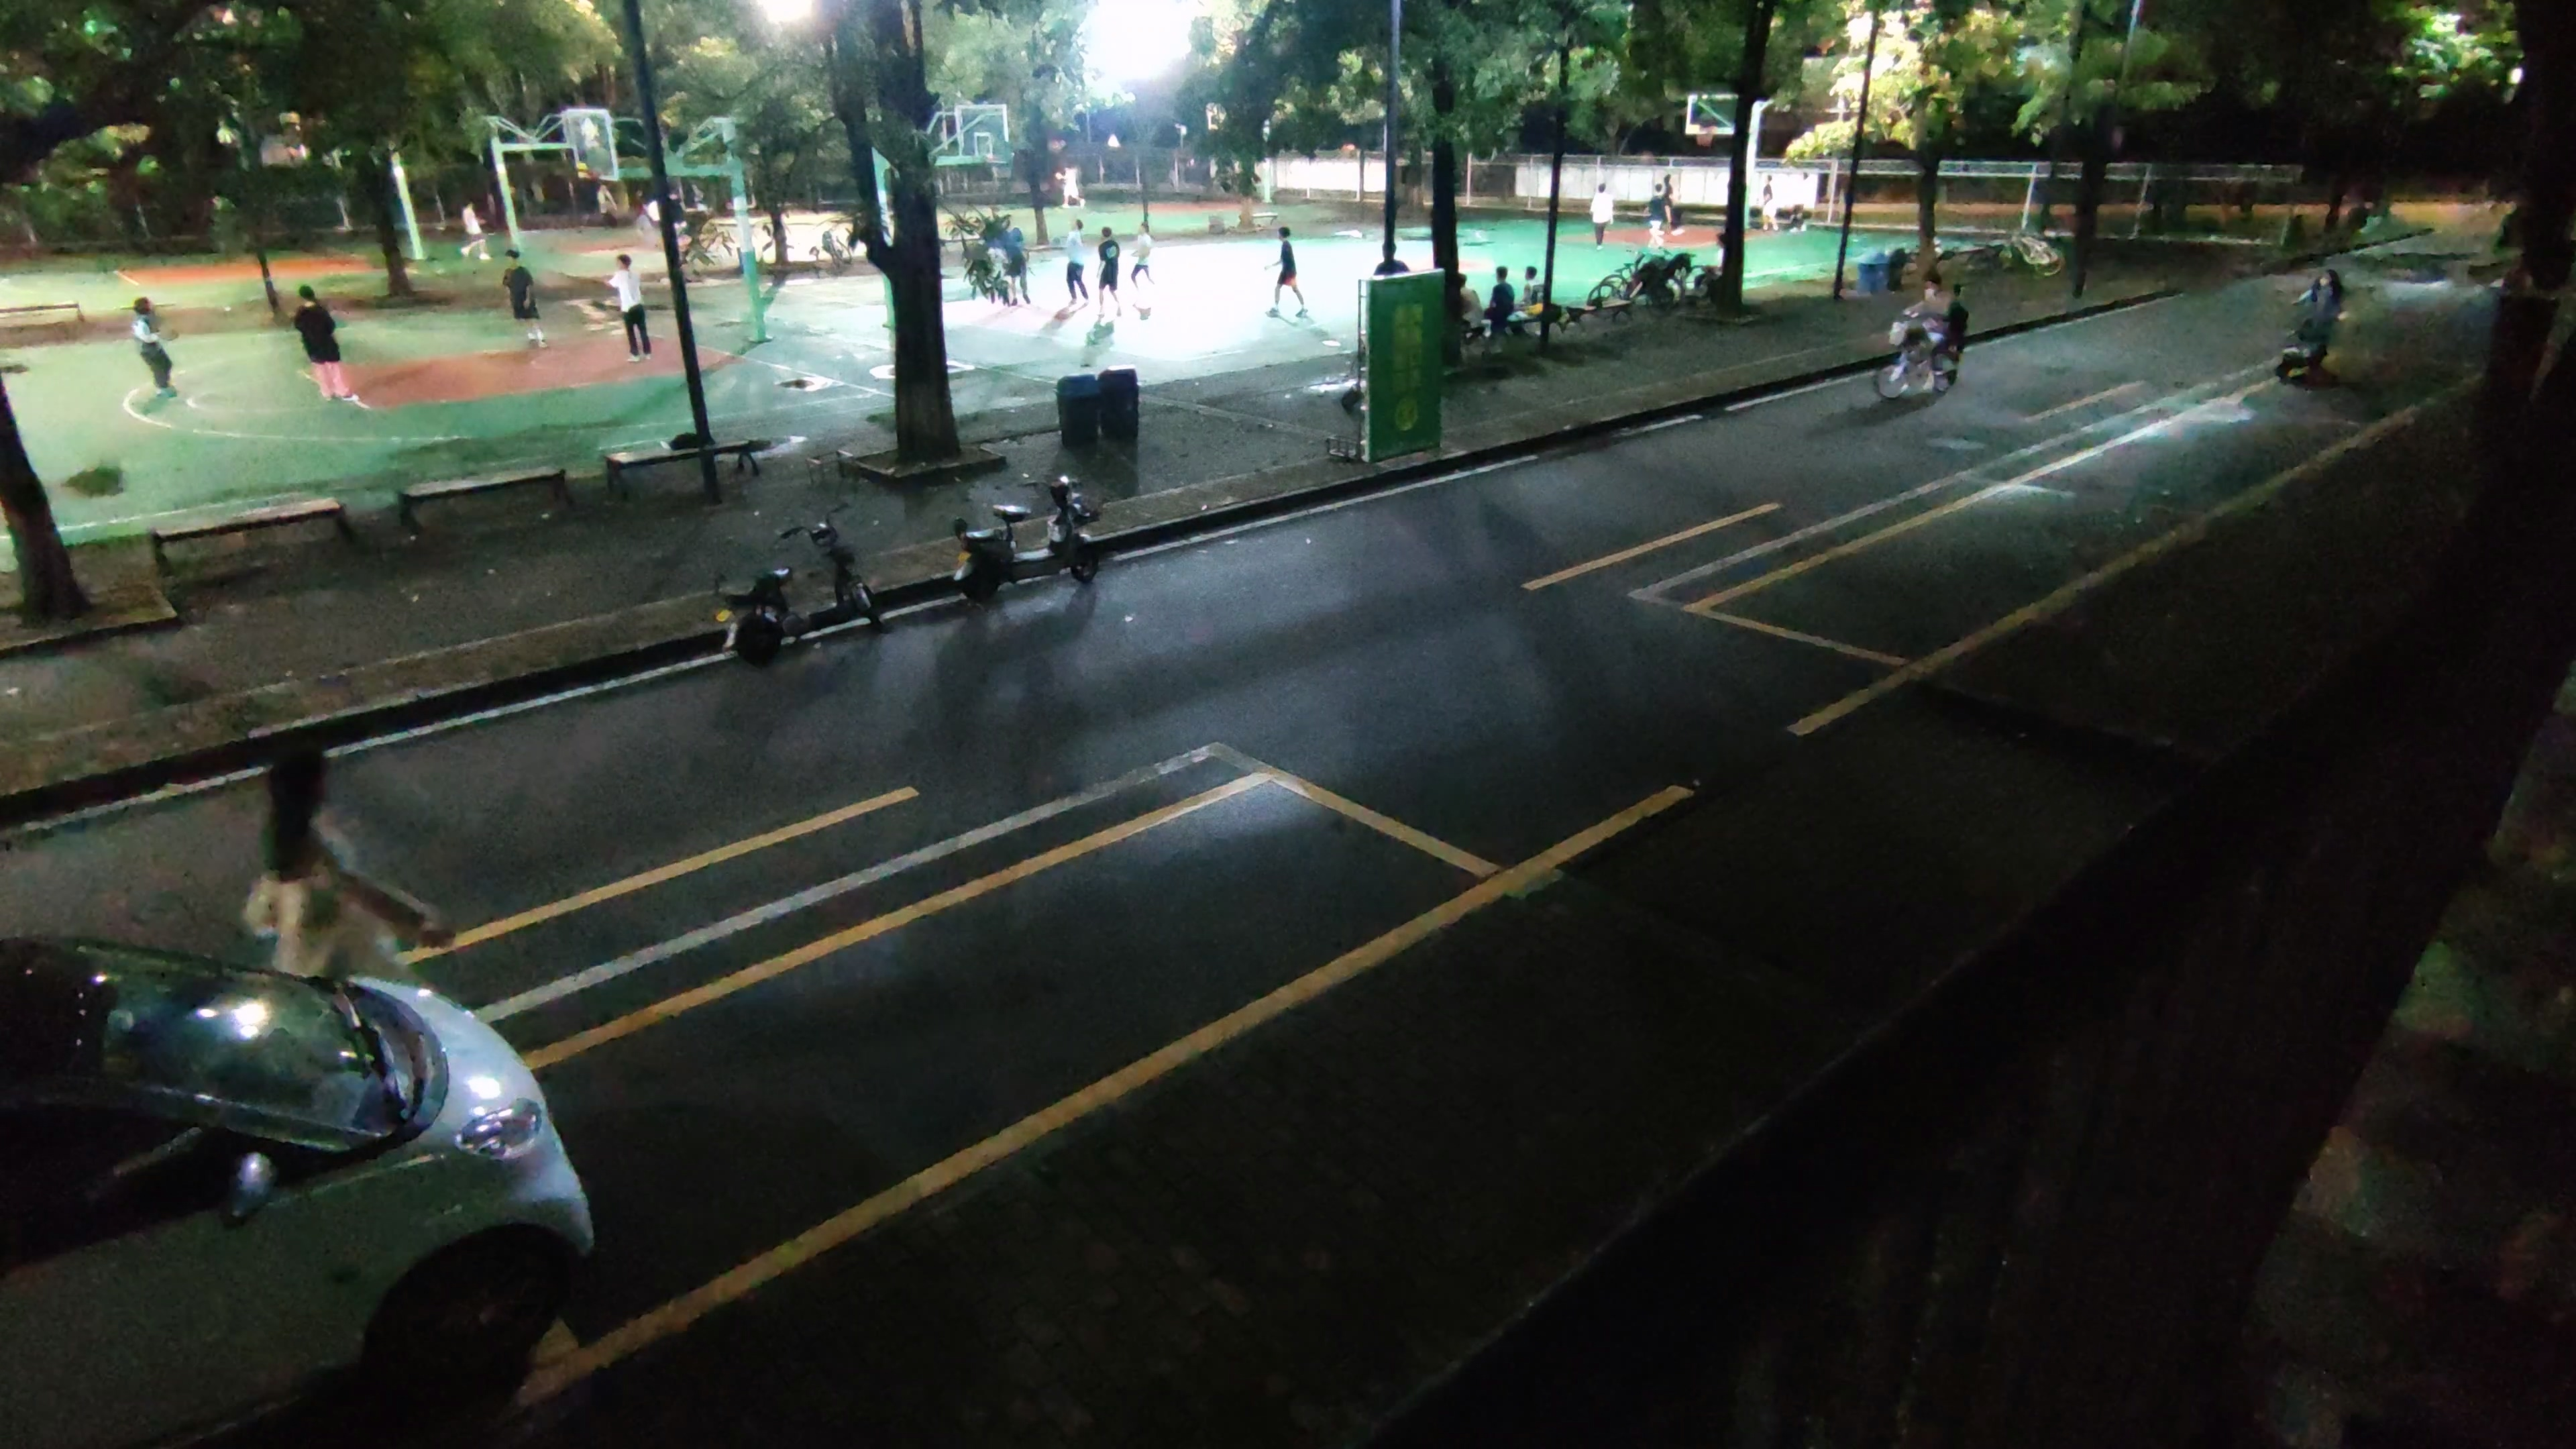space-empty: (341, 766, 1495, 1392), (1675, 476, 2204, 665), (1999, 396, 2387, 517), (2213, 347, 2468, 442)
